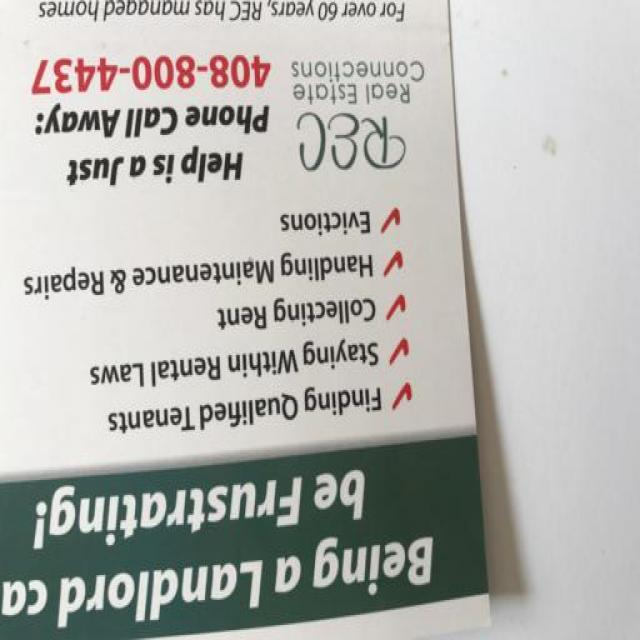paper: (1, 1, 569, 640)
